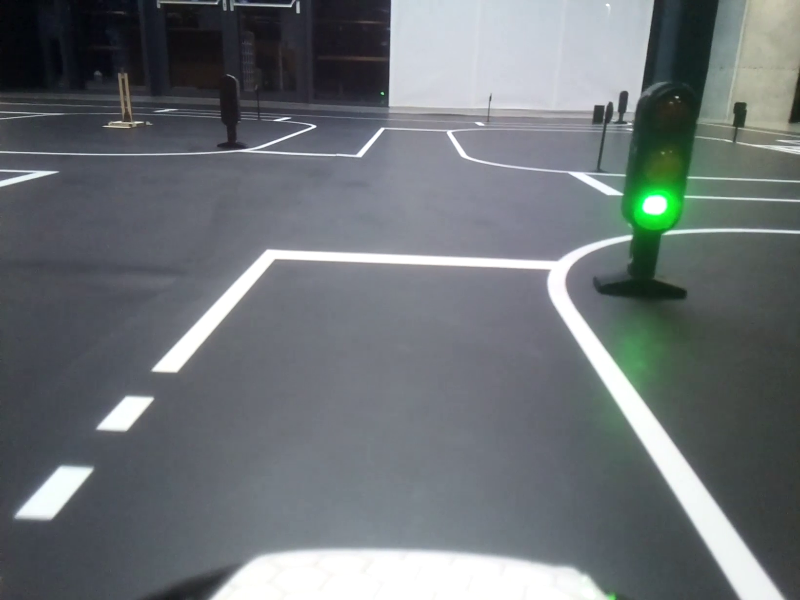traffic_green: (629, 81, 684, 238)
